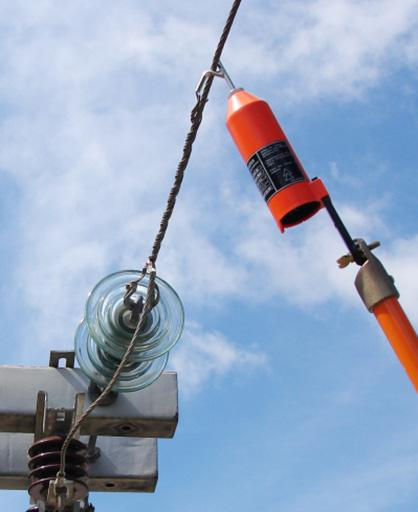Detector_Tensao_Contato: (193, 55, 322, 231)
